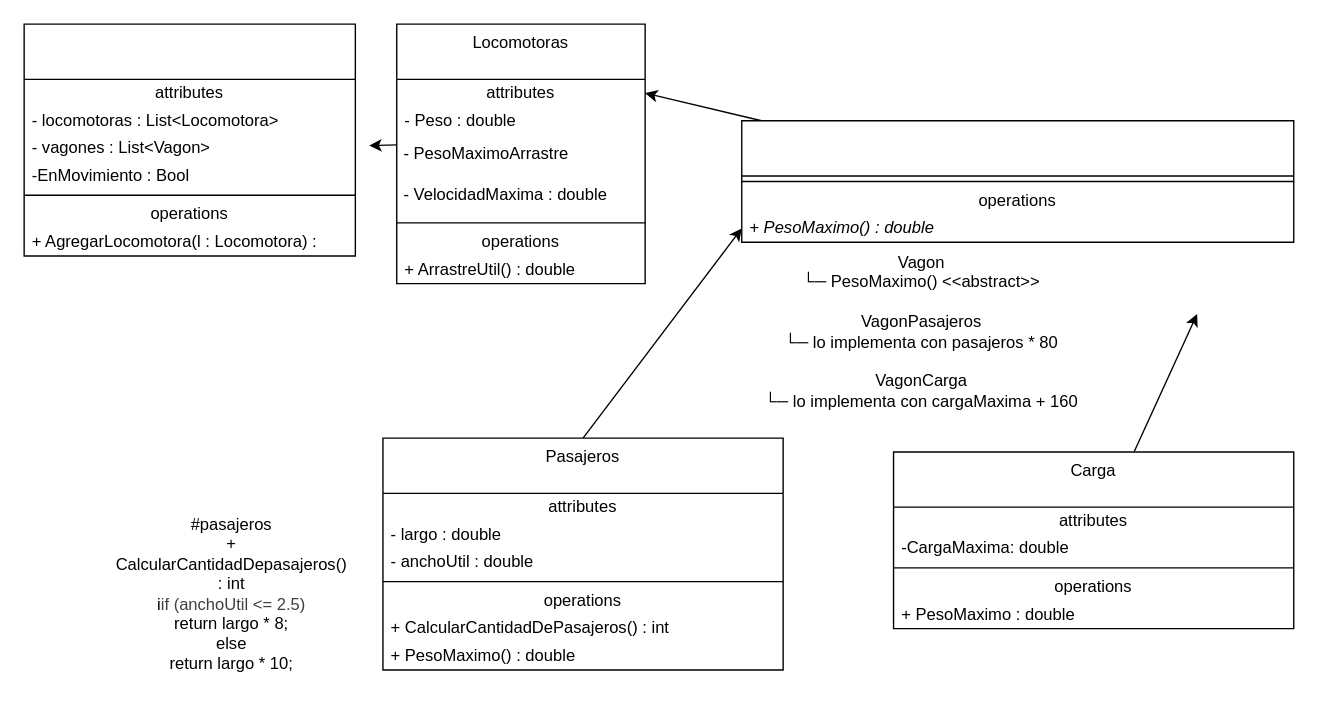
Some shapes in this 1318 by 707 pixel diagram are drawn without their labels. Each missing label, with the box of its shape:
formaciones: (23, 23, 355, 256)
Vagones: (740, 119, 1294, 242)
